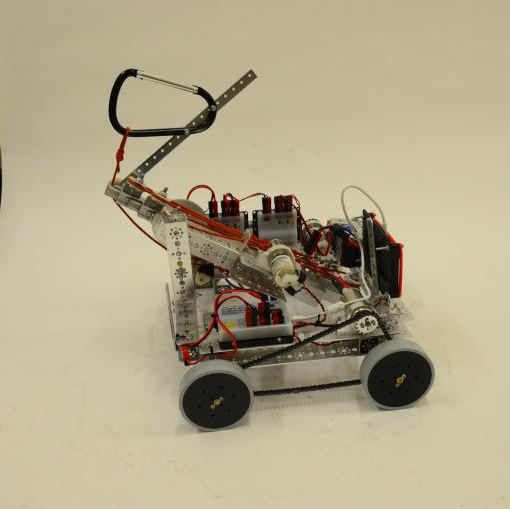robot: (100, 63, 440, 434)
